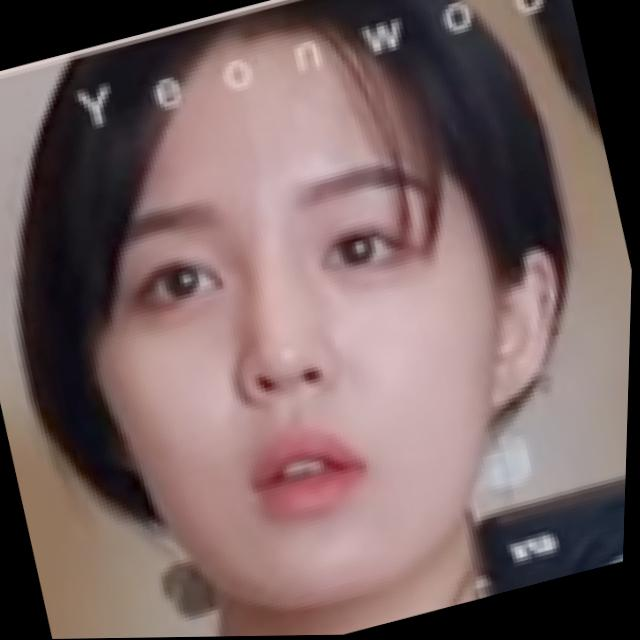face: (37, 59, 549, 639)
